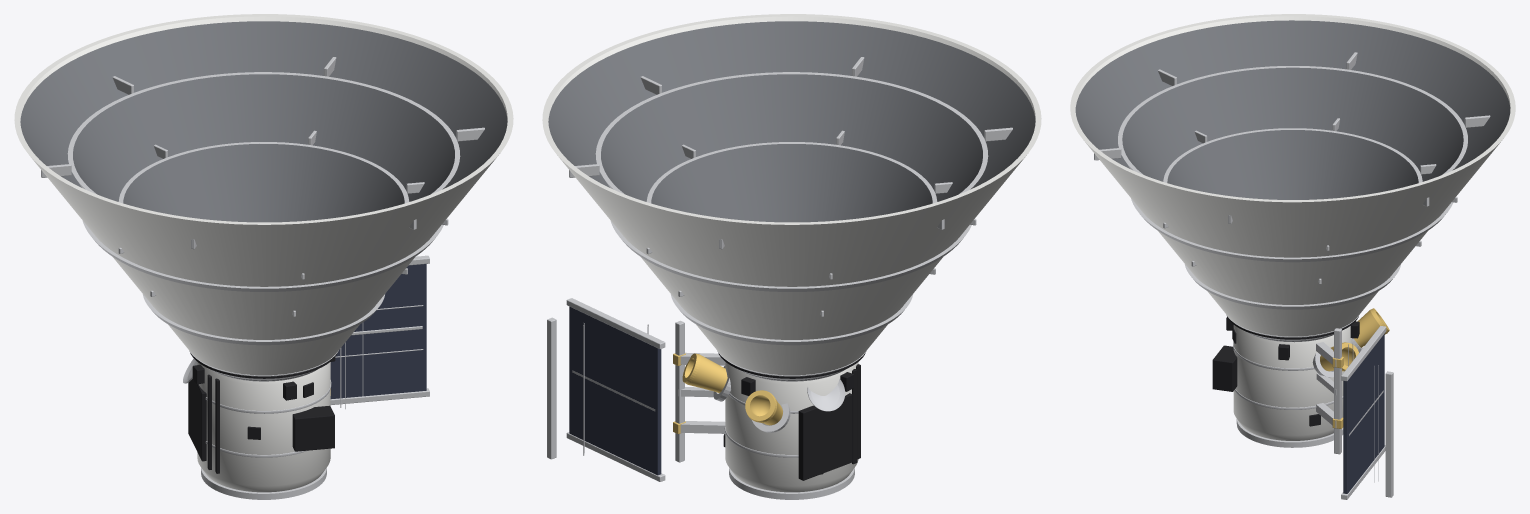
Rendered from telescope.glb.
3 renders of one model, left to right at view 1: azimuth 30°, elevation 25°; view 2: azimuth 150°, elevation 25°; view 3: azimuth 270°, elevation 25°, orthographic. The views are drawn at different scales.
Visible parts, largest first — view 1: SHD_cone_outer, SHD_cone_mid, SHD_cone_inner, BUS_body, SOL_panel, BUS_avionics, SHD_band_1, SHD_brackets, SHD_band_0, SOL_panel_frame, BUS_adapter, BUS_harness (+2 smaller); view 2: SHD_cone_outer, SHD_cone_mid, SHD_cone_inner, SOL_panel, BUS_body, SOL_panel_frame, BUS_avionics, SHD_band_1, SHD_brackets, SHD_band_0, SNS_tracker_a, SOL_arms (+5 smaller); view 3: SHD_cone_outer, SHD_cone_mid, SHD_cone_inner, BUS_body, SOL_panel, SOL_panel_frame, SHD_band_1, SHD_brackets, SHD_band_0, BUS_avionics, BUS_adapter, SOL_arms (+1 smaller).
Part boxes in pixels (<box>): SHD_cone_outer: <box>14,14,513,380</box>; SHD_cone_mid: <box>67,72,460,201</box>; SHD_cone_inner: <box>118,142,409,222</box>; BUS_body: <box>197,362,330,492</box>; SOL_panel: <box>330,264,426,399</box>; BUS_avionics: <box>188,379,334,461</box>; SHD_band_1: <box>82,221,443,291</box>; SHD_brackets: <box>41,57,484,316</box>; SHD_band_0: <box>142,294,384,345</box>; SOL_panel_frame: <box>330,255,429,404</box>; BUS_adapter: <box>201,467,326,499</box>; BUS_harness: <box>207,374,219,473</box>; SHD_cone_outer: <box>542,14,1041,380</box>; SHD_cone_mid: <box>595,72,988,201</box>; SHD_cone_inner: <box>646,142,937,222</box>; SOL_panel: <box>569,306,661,475</box>; BUS_body: <box>725,362,858,492</box>; SOL_panel_frame: <box>547,298,684,481</box>; BUS_avionics: <box>798,393,852,480</box>; SHD_band_1: <box>610,221,971,291</box>; SHD_brackets: <box>569,57,1012,316</box>; SHD_band_0: <box>670,294,913,345</box>; SNS_tracker_a: <box>682,353,727,393</box>; SOL_arms: <box>678,352,725,433</box>; SHD_cone_outer: <box>1070,14,1515,341</box>; SHD_cone_mid: <box>1118,66,1467,181</box>; SHD_cone_inner: <box>1163,128,1422,199</box>; BUS_body: <box>1233,325,1352,440</box>; SOL_panel: <box>1343,334,1384,493</box>; SOL_panel_frame: <box>1334,326,1393,499</box>; SHD_band_1: <box>1131,198,1453,262</box>; SHD_brackets: <box>1094,52,1490,284</box>; SHD_band_0: <box>1184,264,1400,309</box>; BUS_avionics: <box>1212,345,1237,391</box>; BUS_adapter: <box>1236,419,1343,447</box>; SOL_arms: <box>1316,342,1336,427</box>.
Bounding box in the file's own units: 4.12 × 3.22 × 4.12.
